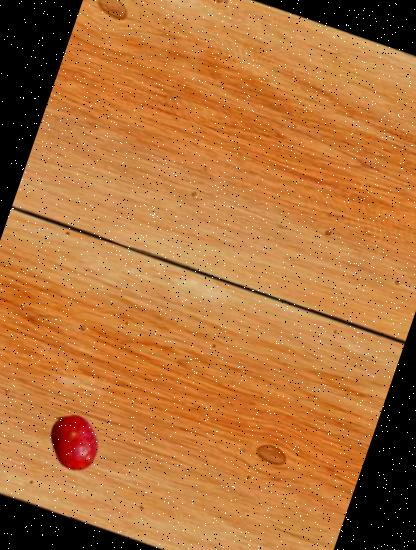Grape: (38, 407, 110, 479)
